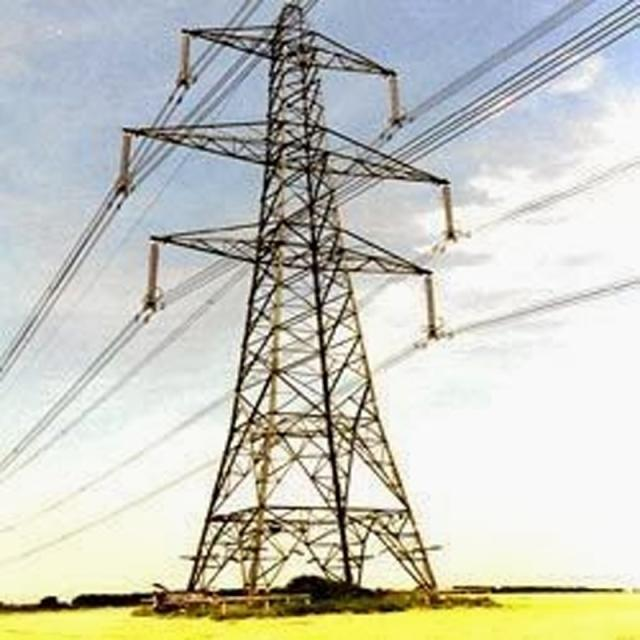non-critical vegetation: (130, 3, 469, 584)
